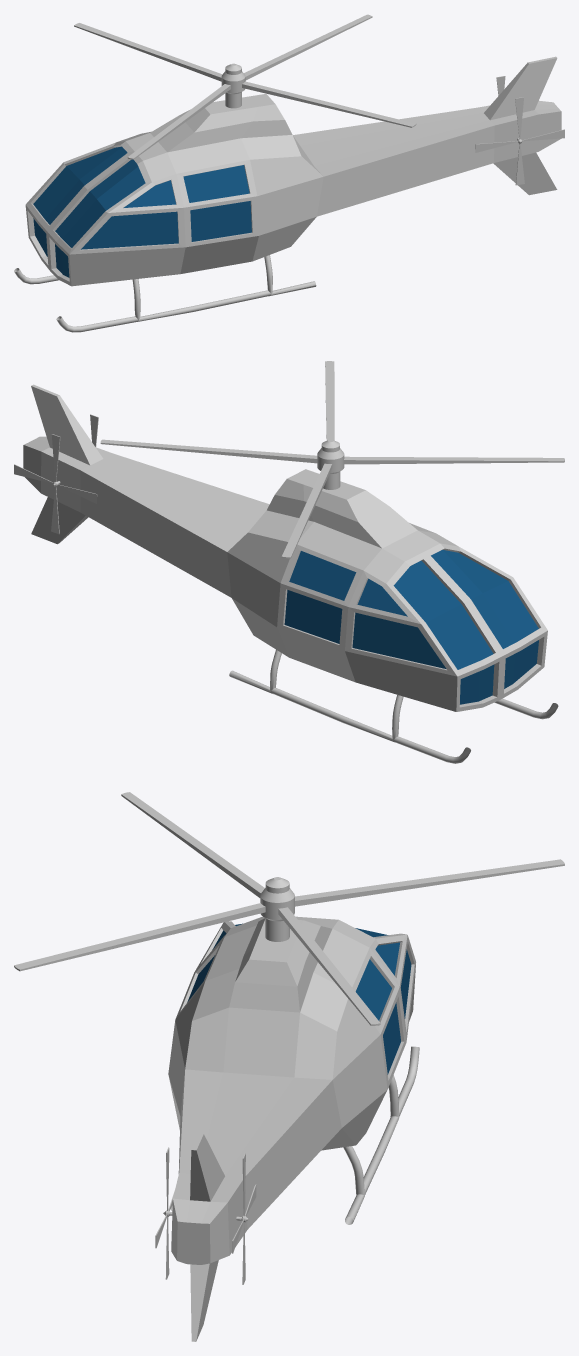
Rendered from helicopter_animation_000171.obj.
The picture shows the model from 3 angles, top to bottom: view 1: azimuth 30°, elevation 25°; view 2: azimuth 150°, elevation 25°; view 3: azimuth 270°, elevation 25°; orthographic projection. The views are drawn at different scales.
Visible parts, largest first — view 1: Helicopter.007_Cylinder.008, Helicopter.001_Cylinder.001, Helicopter.003_Cylinder.004; view 2: Helicopter.007_Cylinder.008, Helicopter.001_Cylinder.001, Helicopter.004_Cylinder.005; view 3: Helicopter.007_Cylinder.008, Helicopter.001_Cylinder.001, Helicopter.004_Cylinder.005.
Part boxes in pixels (box(x1,y1,x2,y2)): Helicopter.007_Cylinder.008: box(14, 56, 561, 332); Helicopter.001_Cylinder.001: box(74, 14, 416, 159); Helicopter.003_Cylinder.004: box(475, 97, 564, 185); Helicopter.007_Cylinder.008: box(23, 384, 558, 763); Helicopter.001_Cylinder.001: box(100, 361, 564, 558); Helicopter.004_Cylinder.005: box(14, 434, 97, 534); Helicopter.007_Cylinder.008: box(168, 916, 419, 1341); Helicopter.001_Cylinder.001: box(14, 792, 564, 1025); Helicopter.004_Cylinder.005: box(232, 1153, 256, 1284).
Size of the model in its own units: 7.55 by 3.2 by 5.1.
